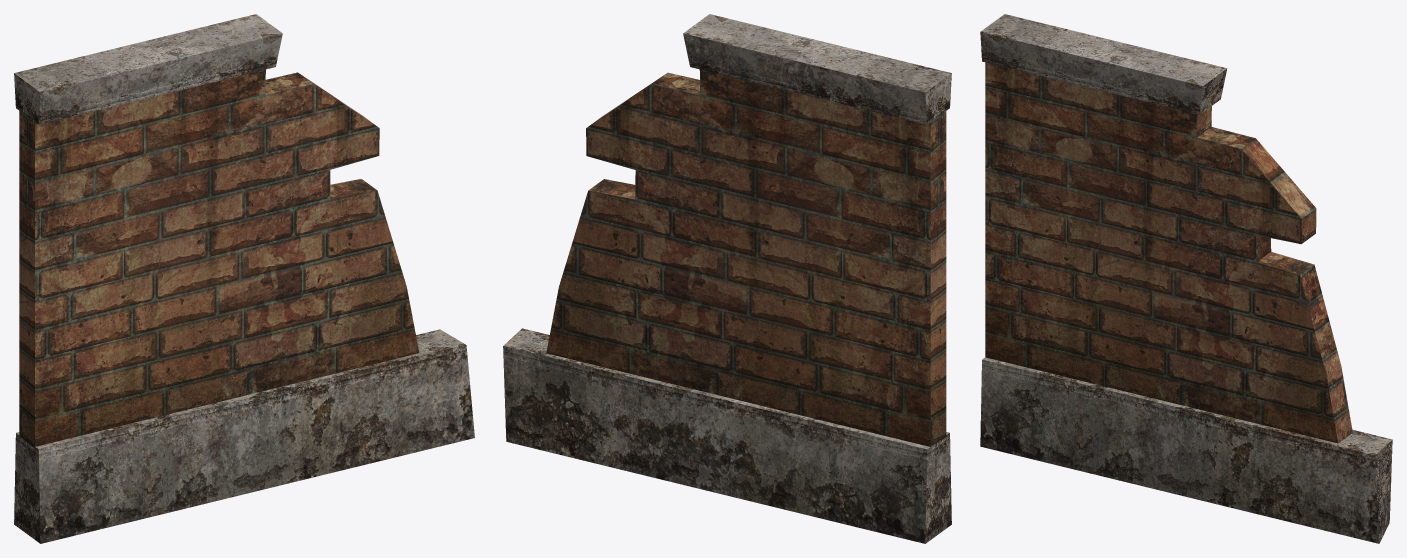
File: Wall3D_LOD1.fbx
3 views of the same model, side by side, from view 1: azimuth 30°, elevation 25°; view 2: azimuth 150°, elevation 25°; view 3: azimuth 330°, elevation 25° (orthographic). The views are drawn at different scales.
Visible parts, largest first — view 1: polySurface86; view 2: polySurface86; view 3: polySurface86.
Boxes of the visible parts, box(x1,y1,x2,y2) form: polySurface86: box(14, 14, 474, 543); polySurface86: box(503, 14, 951, 543); polySurface86: box(980, 14, 1392, 543).
Bounding box in the file's own units: 2.83 × 2.82 × 0.3.
